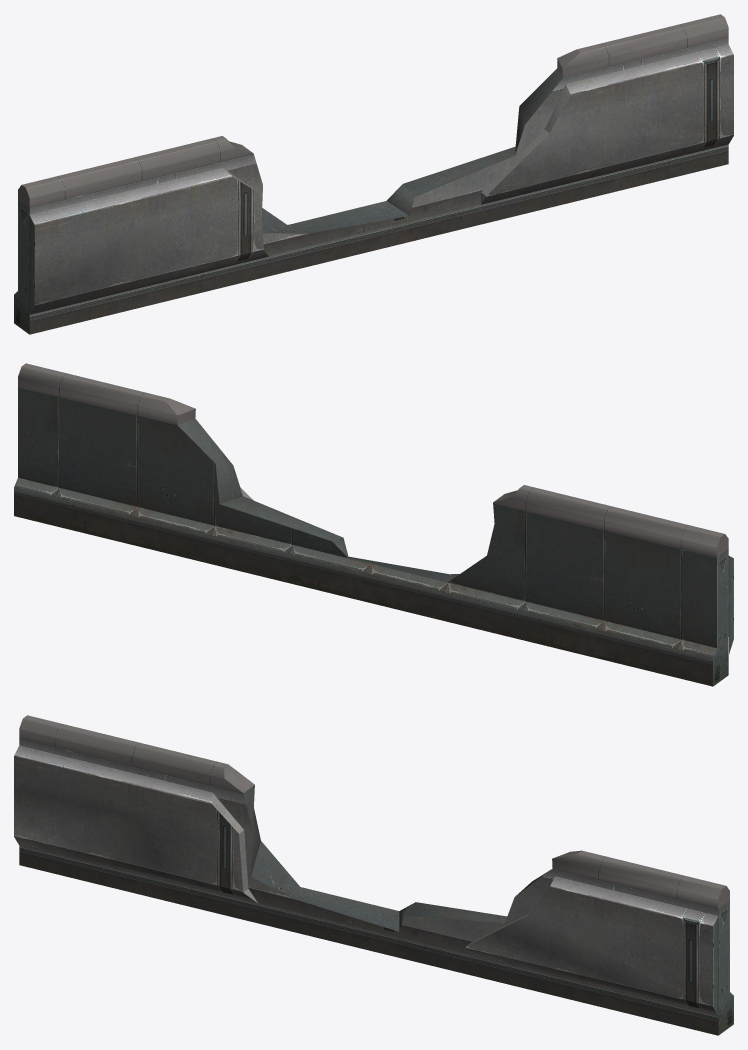
File: Cover_Qiang06.glb
The picture shows the model from 3 angles, top to bottom: view 1: azimuth 30°, elevation 25°; view 2: azimuth 150°, elevation 25°; view 3: azimuth 330°, elevation 25°; orthographic projection.
Parts seen in each view (by area): view 1: xiutz_qiang06; view 2: xiutz_qiang06; view 3: xiutz_qiang06.
Part boxes in pixels (x1,y1,x2,y2): xiutz_qiang06: [14, 14, 733, 334]; xiutz_qiang06: [14, 363, 733, 686]; xiutz_qiang06: [14, 715, 733, 1035].
Size of the model in its own units: 17.38 by 3.42 by 0.8976.
1 material, 1 textured.
